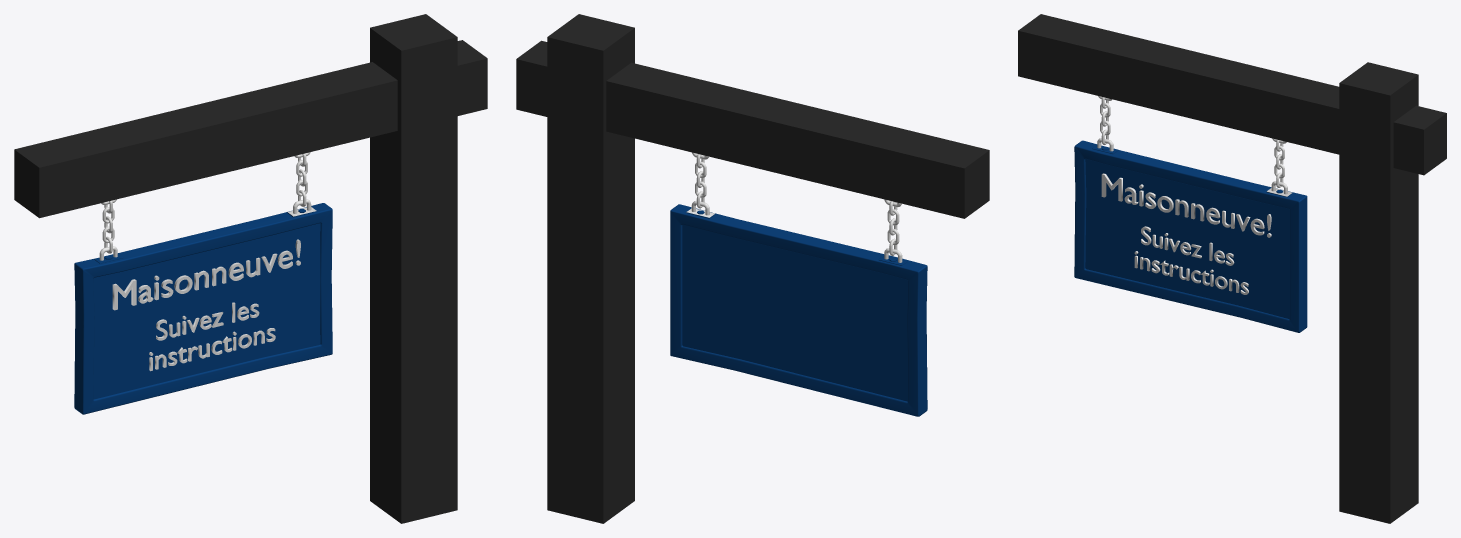
Rendered from signe.glb.
The picture shows the model from 3 angles, left to right: view 1: azimuth 30°, elevation 25°; view 2: azimuth 150°, elevation 25°; view 3: azimuth 330°, elevation 25°; orthographic projection. The views are drawn at different scales.
Visible parts, largest first — view 1: Cube, signboard.002, Cube.001, Text.002, Text.001, signboard; view 2: Cube, signboard.002, Cube.001, signboard; view 3: Cube, signboard.002, Cube.001, Text.002, Text.001, signboard.
Part boxes in pixels (left/top/right/bottom): Cube: left=370, top=14, right=457, bottom=523; signboard.002: left=74, top=203, right=332, bottom=414; Cube.001: left=14, top=40, right=487, bottom=218; Text.002: left=112, top=239, right=300, bottom=310; Text.001: left=149, top=302, right=275, bottom=371; signboard: left=99, top=152, right=316, bottom=260; Cube: left=547, top=14, right=634, bottom=523; signboard.002: left=670, top=204, right=927, bottom=416; Cube.001: left=516, top=40, right=989, bottom=218; signboard: left=686, top=152, right=902, bottom=262; Cube: left=1339, top=62, right=1418, bottom=523; signboard.002: left=1074, top=140, right=1307, bottom=332; Cube.001: left=1018, top=14, right=1446, bottom=175; Text.002: left=1101, top=173, right=1271, bottom=237; Text.001: left=1134, top=226, right=1248, bottom=294; signboard: left=1097, top=96, right=1292, bottom=196.
Size of the model in its own units: 2.46 by 2.48 by 0.2994.
